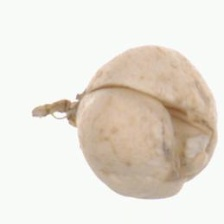L1: (168, 105, 211, 178), (62, 81, 90, 135)
L2: (63, 45, 219, 200)
